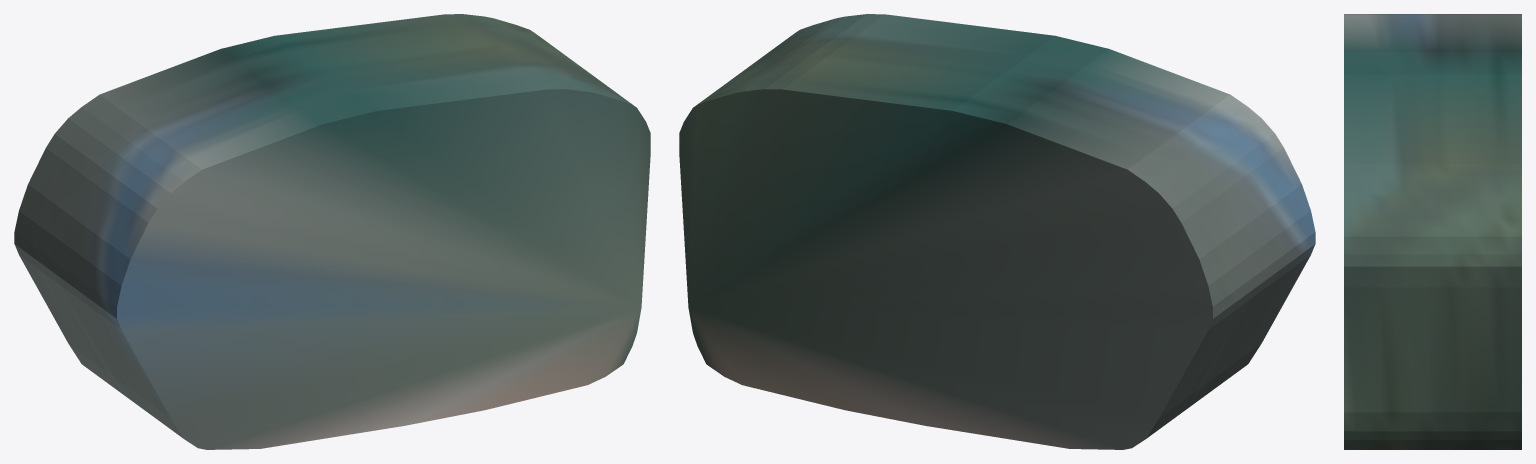
The picture shows the model from 3 angles, left to right: view 1: azimuth 30°, elevation 25°; view 2: azimuth 150°, elevation 25°; view 3: azimuth 270°, elevation 25°; orthographic projection. The views are drawn at different scales.
Visible parts, largest first — view 1: visual_mesh.obj; view 2: visual_mesh.obj; view 3: visual_mesh.obj.
Boxes of the visible parts, left/top/right/bottom form: visual_mesh.obj: left=14, top=14, right=650, bottom=449; visual_mesh.obj: left=679, top=14, right=1315, bottom=449; visual_mesh.obj: left=1344, top=14, right=1521, bottom=449.
Size of the model in its own units: 0.12 by 0.07 by 0.04.
